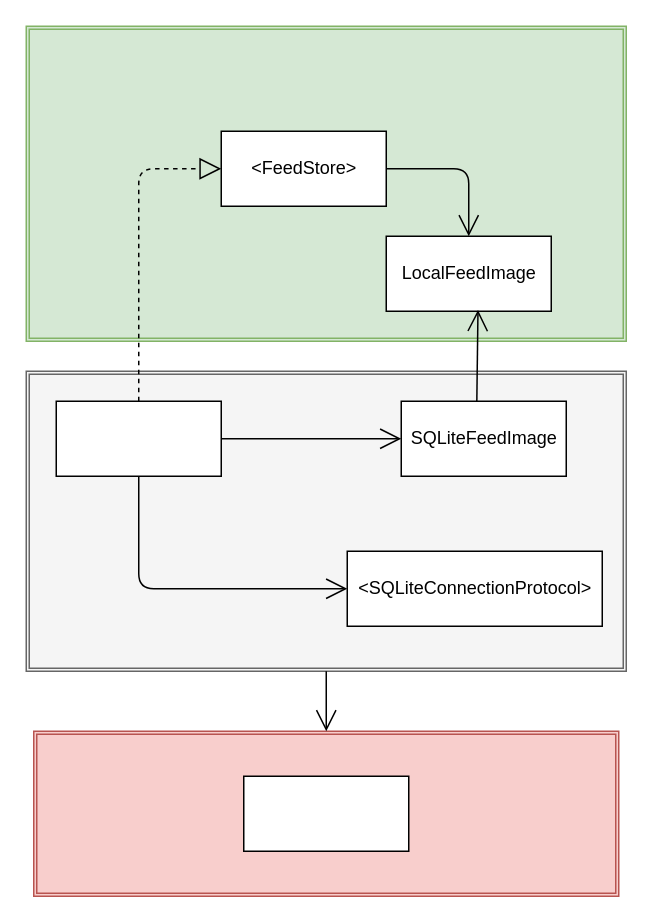
This 653x923 diagram has some shape labels left out. The shapes that lost their labels are listed below. From the top down, each one's box as (x1, y1, x2, y2) in pixels, then its label:
(55, 400, 221, 476): SQLiteFeedStore
(242, 775, 409, 851): SQLite
